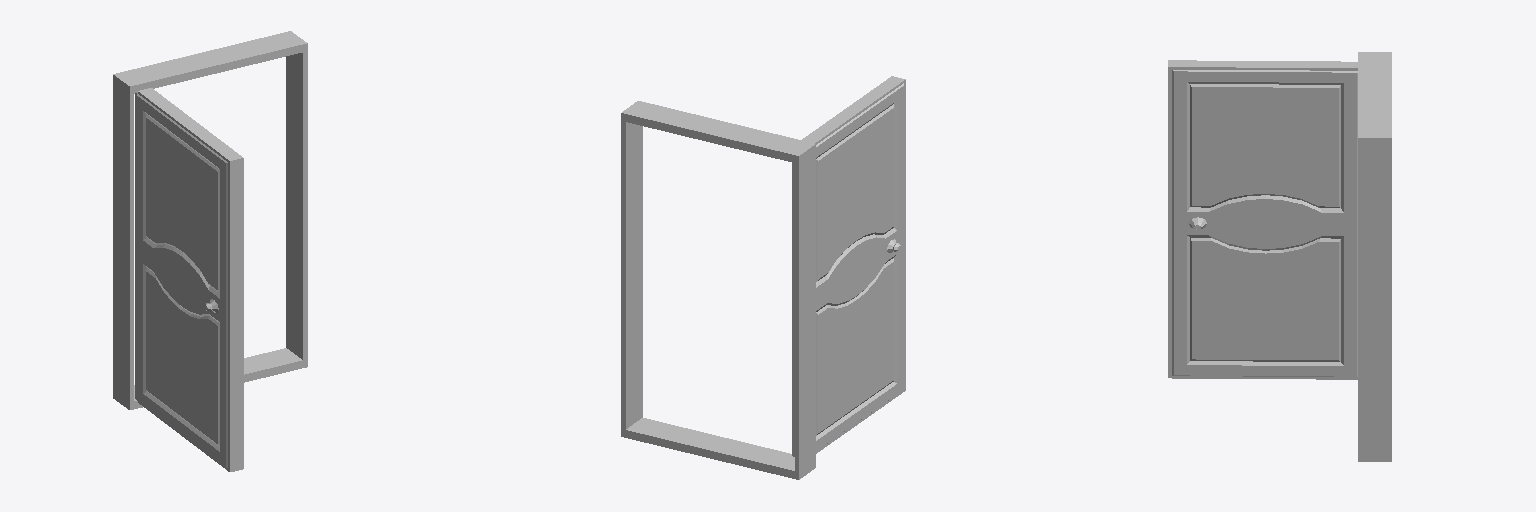
File: drzwiok_000001.obj
3 renders of one model, left to right at view 1: azimuth 30°, elevation 25°; view 2: azimuth 150°, elevation 25°; view 3: azimuth 270°, elevation 25°, orthographic.
Parts seen in each view (by area): view 1: Door_4.001_Cube.001, Kostka; view 2: Door_4.001_Cube.001, Kostka; view 3: Door_4.001_Cube.001, Kostka.
Boxes of the visible parts, <box> form: Door_4.001_Cube.001: <box>135,88,243,471</box>; Kostka: <box>113,31,307,409</box>; Door_4.001_Cube.001: <box>792,76,905,456</box>; Kostka: <box>621,101,815,479</box>; Door_4.001_Cube.001: <box>1168,60,1357,379</box>; Kostka: <box>1358,52,1391,461</box>.
Bounding box in the file's own units: 0.7568 × 1.29 × 0.8091.